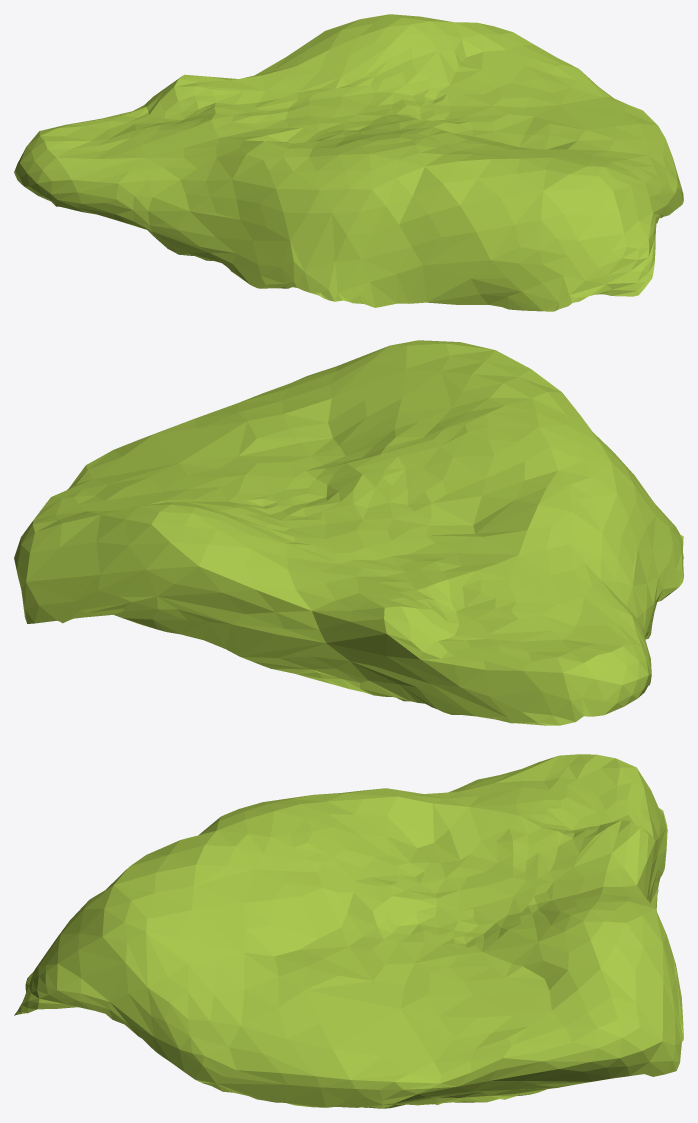
File: hill_011.glb
The picture shows the model from 3 angles, top to bottom: view 1: azimuth 30°, elevation 25°; view 2: azimuth 150°, elevation 25°; view 3: azimuth 270°, elevation 25°; orthographic projection. The views are drawn at different scales.
Parts seen in each view (by area): view 1: hill_011; view 2: hill_011; view 3: hill_011.
Part boxes in pixels (box(x1,y1,x2,y2)): hill_011: box(14, 14, 683, 311); hill_011: box(14, 340, 683, 725); hill_011: box(14, 754, 683, 1108).
Size of the model in its own units: 120 by 22.46 by 110.
1 material, 1 textured.
